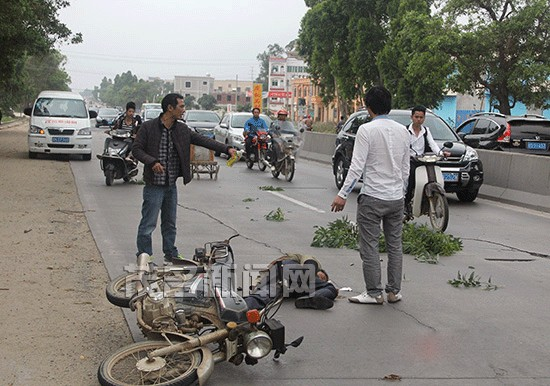fall: (224, 244, 343, 318)
